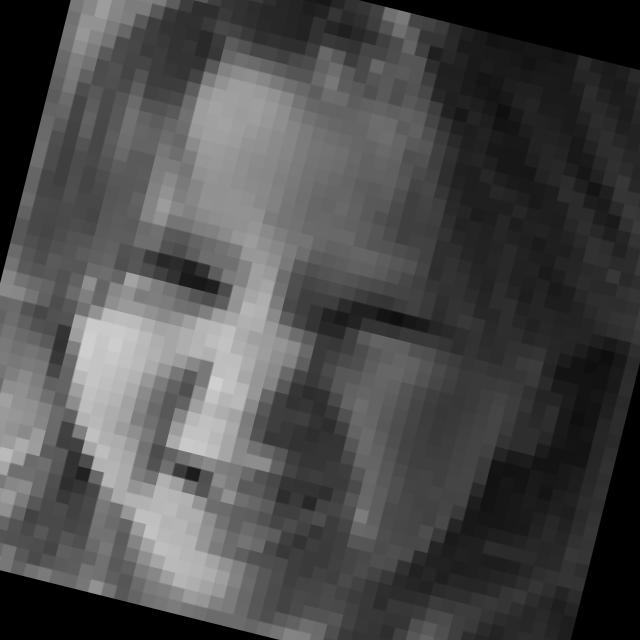angry: (51, 198, 480, 604)
